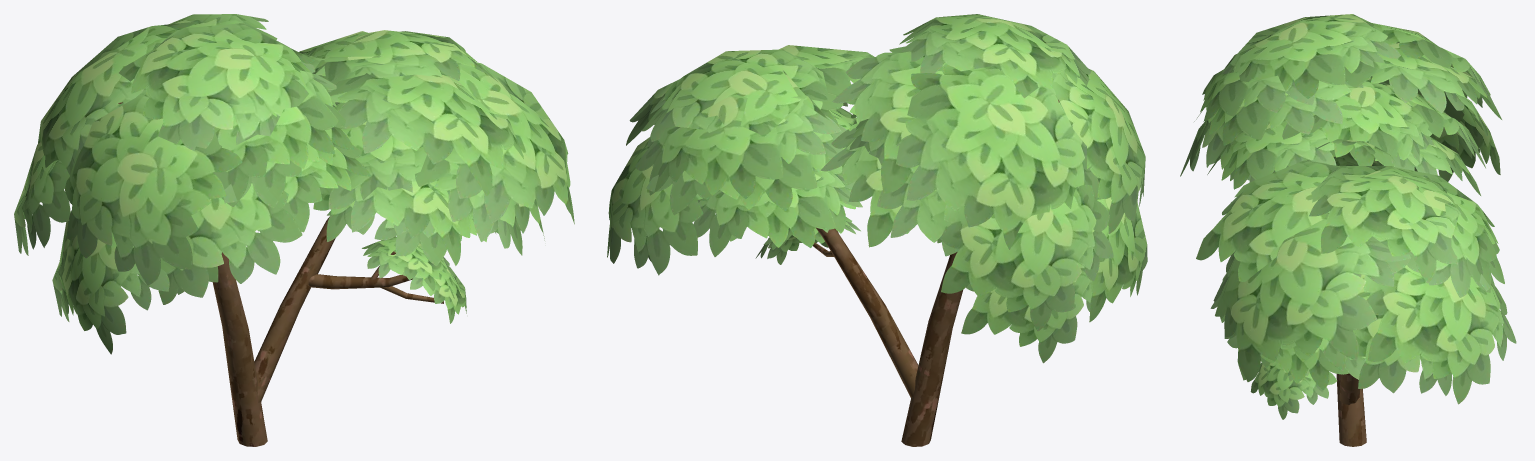
The model's file is tree_8.glb.
3 views of the same model, side by side, from view 1: azimuth 30°, elevation 25°; view 2: azimuth 150°, elevation 25°; view 3: azimuth 270°, elevation 25° (orthographic). The views are drawn at different scales.
Visible parts, largest first — view 1: Tree_8; view 2: Tree_8; view 3: Tree_8.
Part boxes in pixels (<box>): Tree_8: <box>14,14,574,446</box>; Tree_8: <box>607,14,1147,446</box>; Tree_8: <box>1180,14,1516,446</box>.
Bounding box in the file's own units: 6.94 × 5.52 × 4.39.
Materials: 2 (2 with a texture image).
